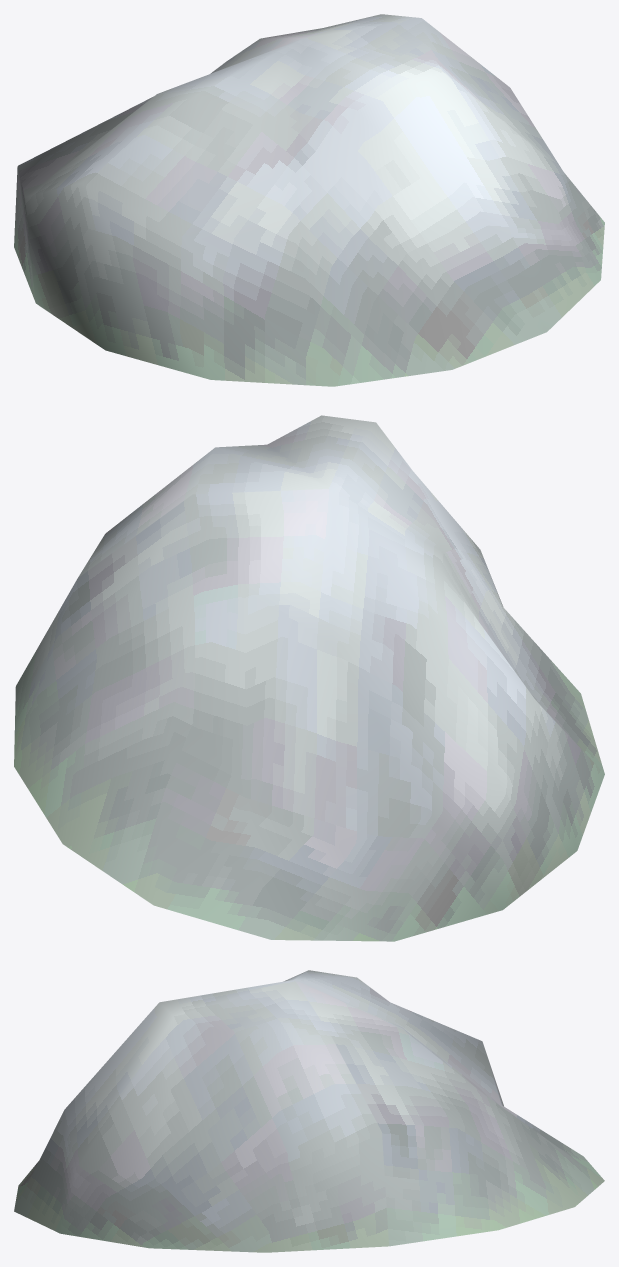
Rendered from TROLLHOLE02_STONEA16.fbx.
3 views of the same model, one above another, from view 1: azimuth 30°, elevation 25°; view 2: azimuth 150°, elevation 25°; view 3: azimuth 270°, elevation 25° (orthographic). The views are drawn at different scales.
Visible parts, largest first — view 1: TROLLHOLE02_STONEA16; view 2: TROLLHOLE02_STONEA16; view 3: TROLLHOLE02_STONEA16.
Part boxes in pixels (x1=…): TROLLHOLE02_STONEA16: x1=14, y1=14, x2=604, y2=386; TROLLHOLE02_STONEA16: x1=14, y1=415, x2=604, y2=941; TROLLHOLE02_STONEA16: x1=14, y1=970, x2=604, y2=1252.
Bounding box in the file's own units: 6257 × 3470 × 7681.
1 material, 1 textured.
